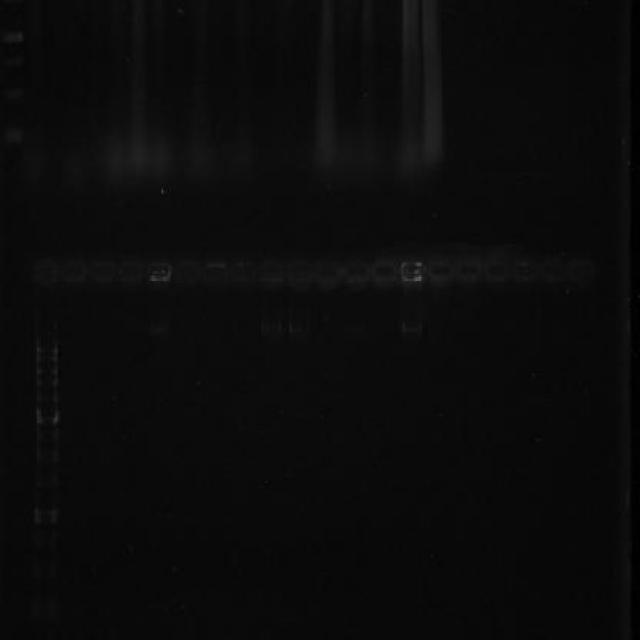L: (23, 246, 603, 294)
M: (29, 338, 63, 534)
P: (33, 468, 59, 488), (33, 506, 58, 525), (34, 408, 60, 426), (34, 445, 60, 463), (34, 426, 60, 444), (34, 386, 58, 404), (34, 376, 60, 386), (34, 367, 60, 375), (33, 360, 59, 368), (33, 353, 59, 361), (34, 344, 60, 352)
Pc: (538, 250, 568, 288), (428, 253, 456, 290), (483, 250, 511, 287), (568, 253, 596, 290), (372, 254, 398, 292), (314, 258, 343, 292), (343, 258, 371, 292), (398, 257, 426, 291), (454, 253, 482, 287), (31, 258, 60, 290), (510, 252, 538, 285), (230, 257, 258, 288), (62, 256, 88, 289), (89, 258, 118, 287), (118, 258, 146, 288), (174, 258, 202, 288), (202, 258, 230, 288), (286, 260, 312, 292), (260, 258, 286, 288), (146, 259, 172, 284)
